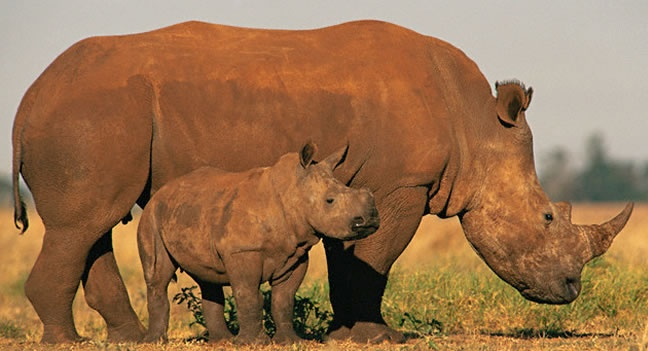rhino: (11, 19, 634, 343), (136, 138, 381, 344)
